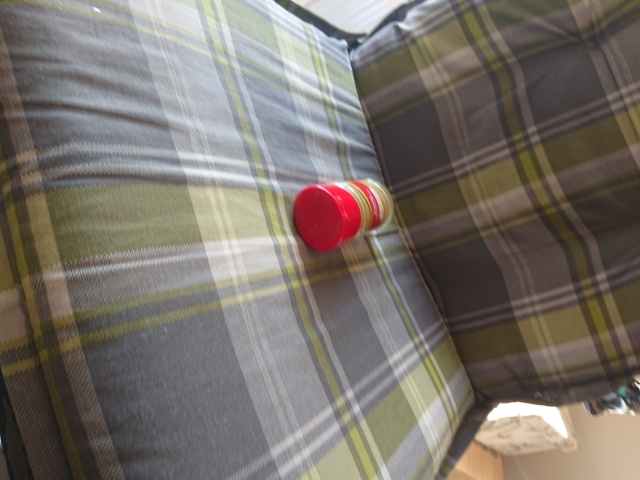Kotanyi Curry Spices Mix 70g: (290, 175, 396, 254)
